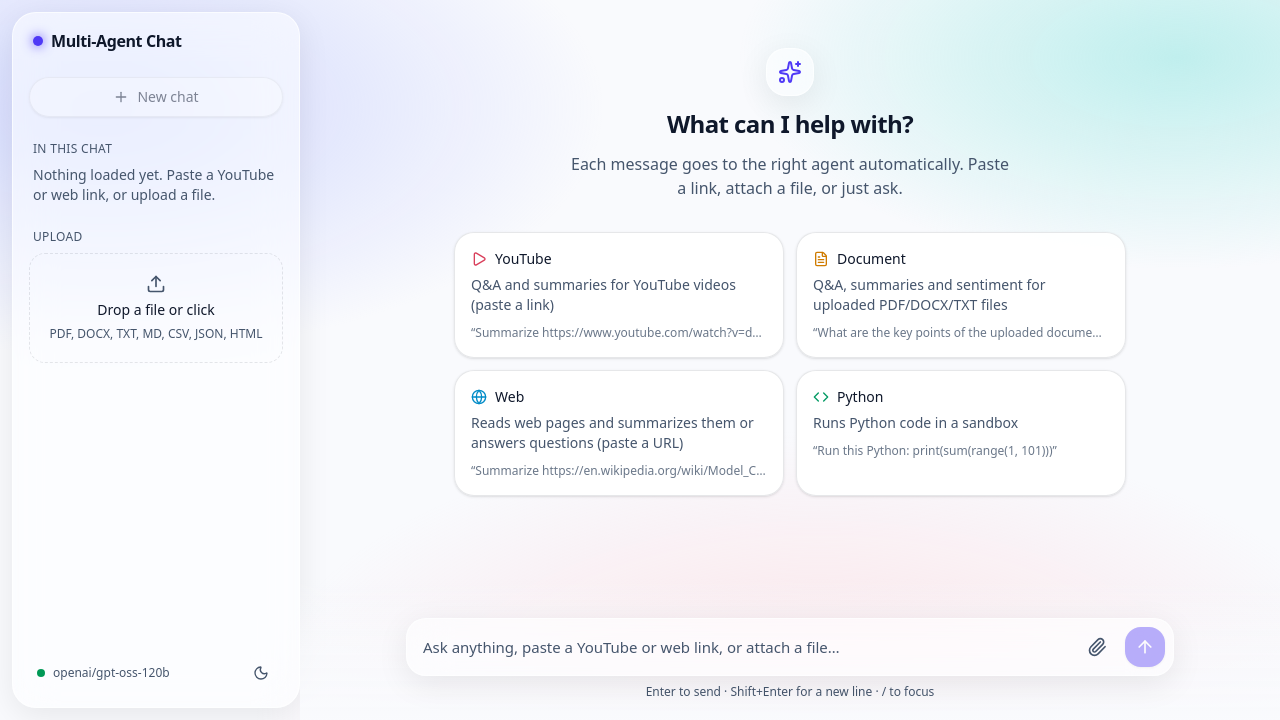
Test case: App › keeps the message and offers Retry when the request fails
(page scrolled)
Type "hello" into the text box named "Message" at x=746, y=647, box [423,627,1069,667]
Then press Enter
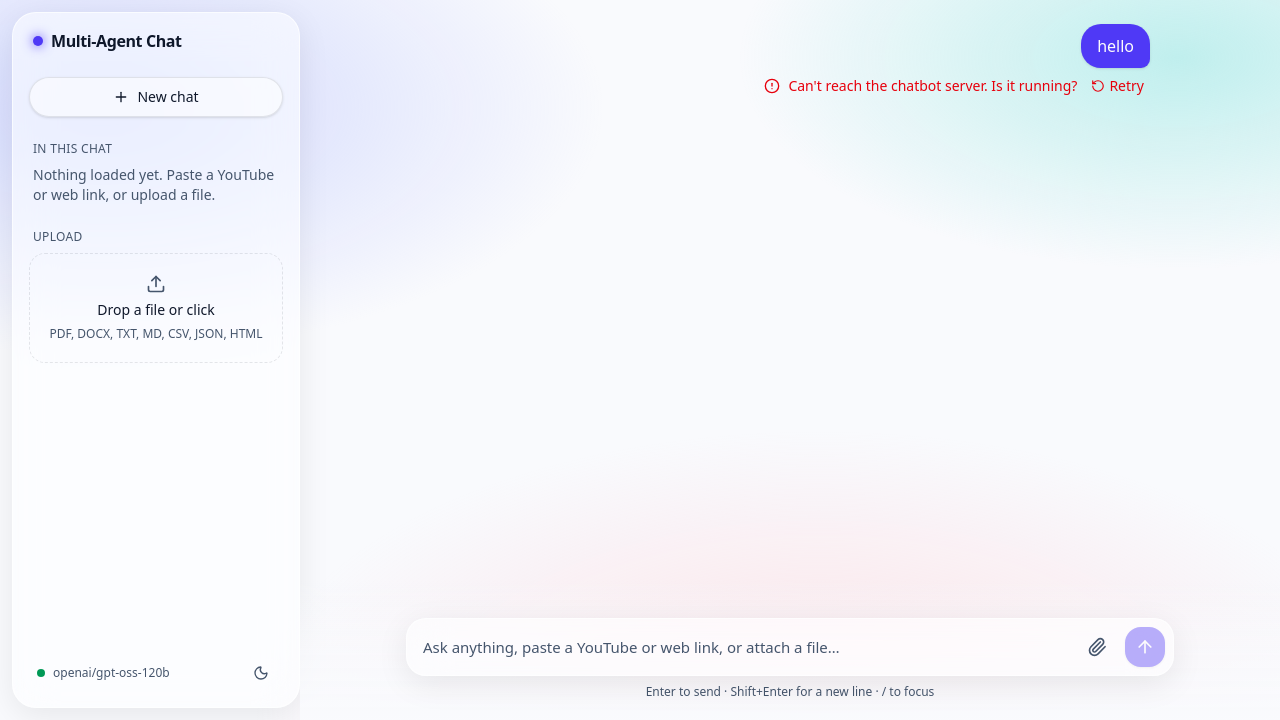
Result: the message shows "Can't reach the chatbot server" at [788,76,1077,95]
Click the button "Retry" at x=1118, y=86, box [1085,74,1150,98]
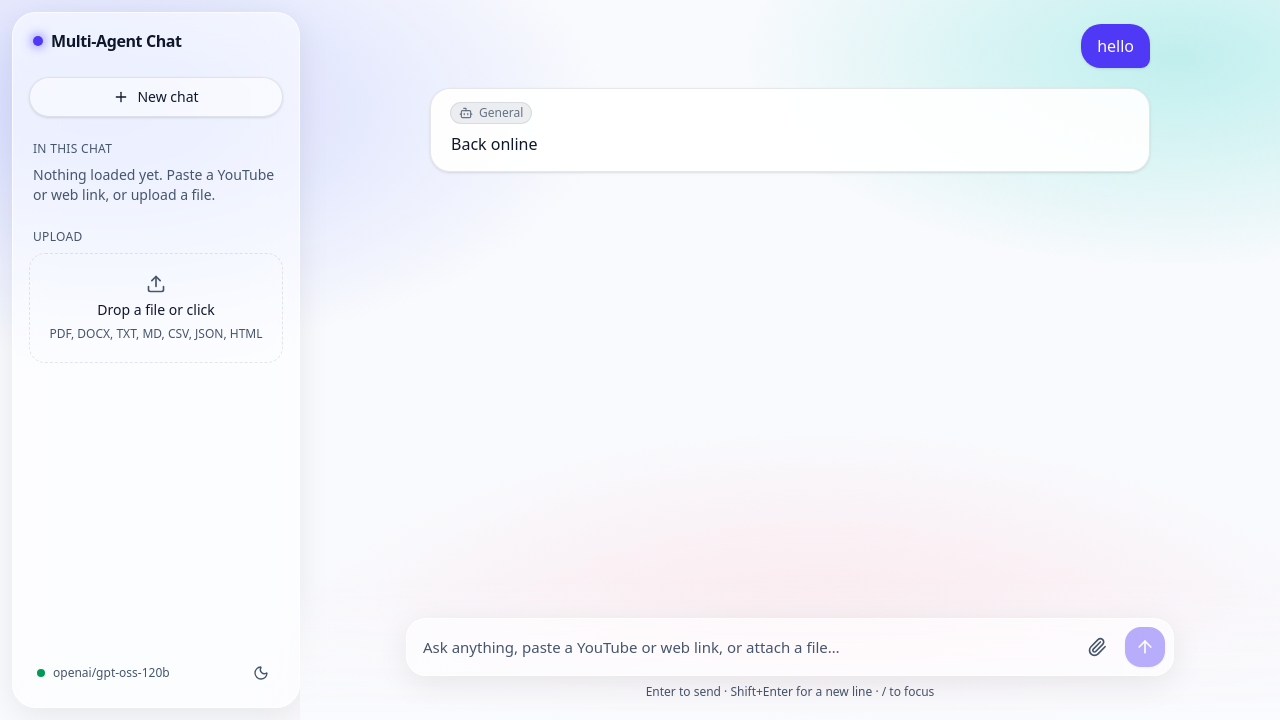
Result: the text "Back online" is shown at [451,133,538,155]
